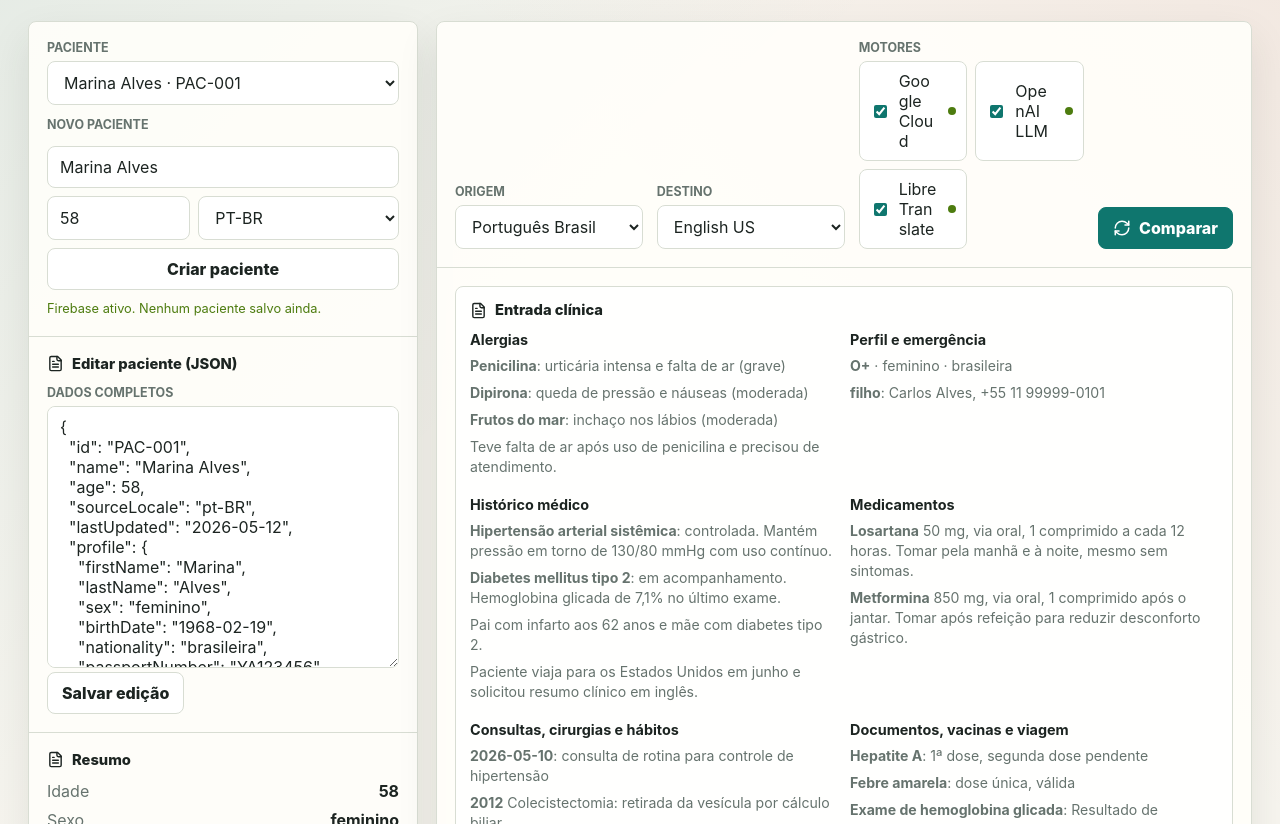
Scenario: TranslationWorkbench › runs a smoke flow and renders provider result columns
Expected: the text "OpenAI LLM" is shown, x1=1015 y1=81 x2=1048 y2=141
Click the button "Comparar" at (1166, 228), box x1=1098 y1=207 x2=1233 y2=249
(page scrolled)
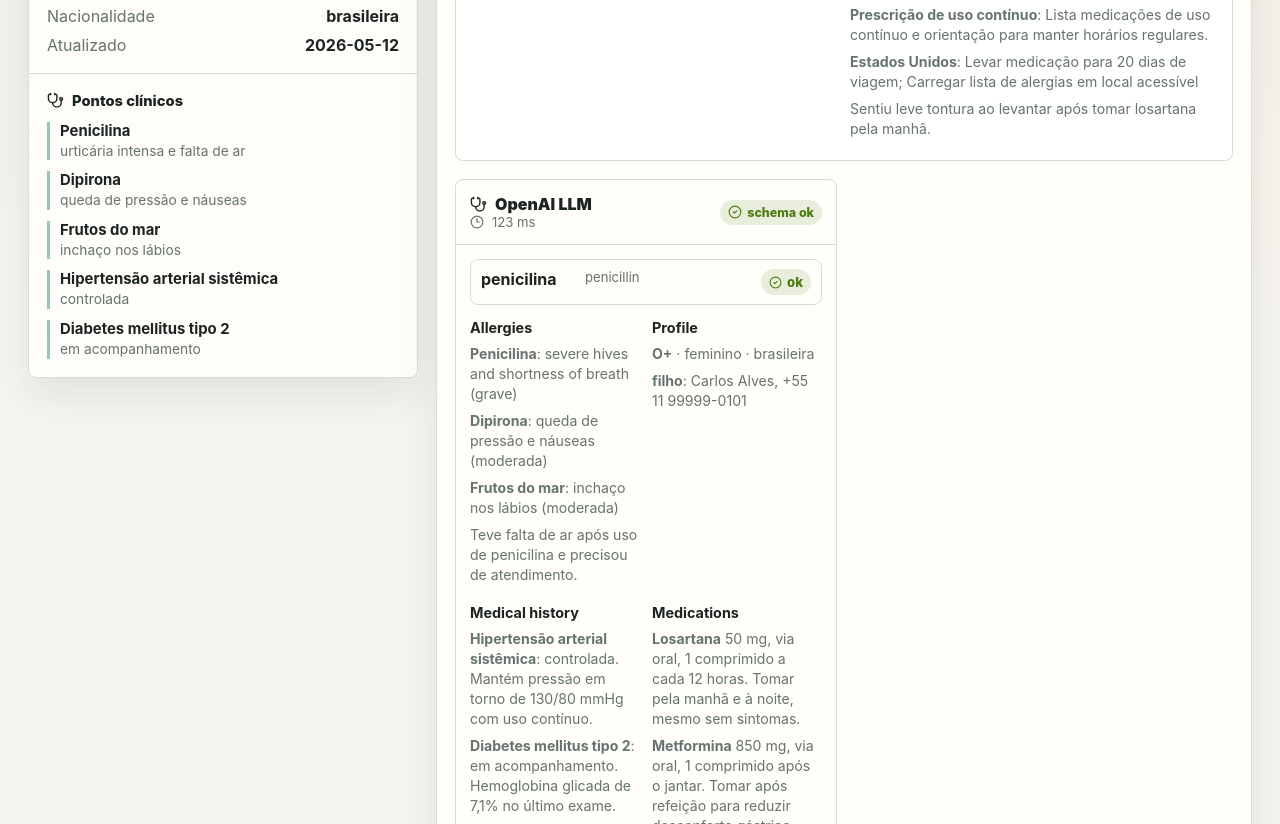
Result: the text "schema ok" is shown at x1=720 y1=200 x2=822 y2=224
Result: the text "Penicilina: severe hives and shortness of breath (grave)" is shown at x1=470 y1=344 x2=640 y2=404
